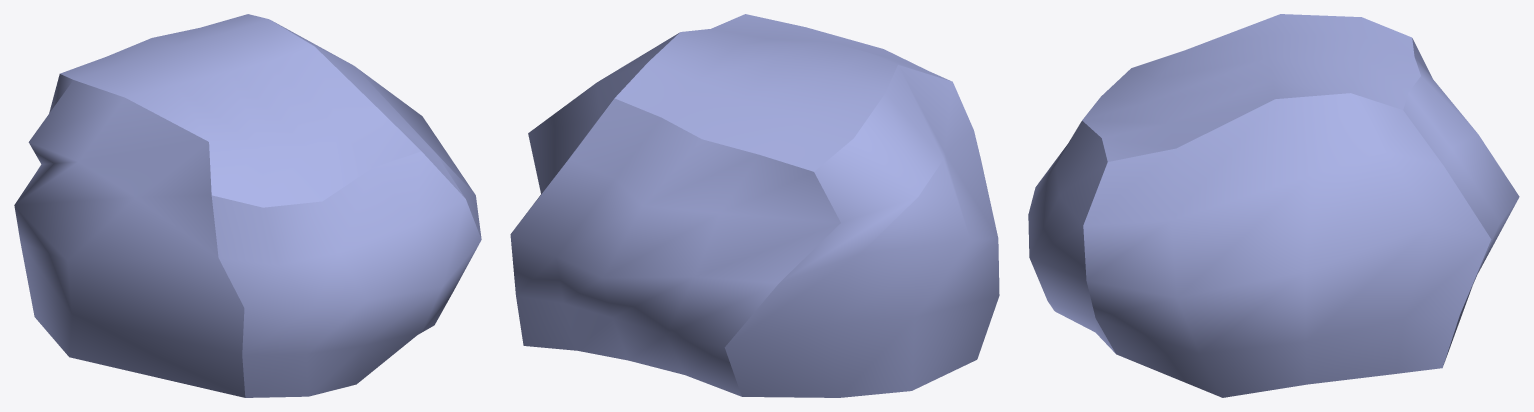
The model's file is Rock1.fbx.
3 renders of one model, left to right at view 1: azimuth 30°, elevation 25°; view 2: azimuth 150°, elevation 25°; view 3: azimuth 270°, elevation 25°, orthographic. The views are drawn at different scales.
Visible parts, largest first — view 1: Rock1; view 2: Rock1; view 3: Rock1.
Boxes of the visible parts, x1=… form: Rock1: x1=14, y1=14, x2=481, y2=397; Rock1: x1=510, y1=14, x2=999, y2=397; Rock1: x1=1028, y1=14, x2=1519, y2=397.
Size of the model in its own units: 109 by 63.17 by 114.
